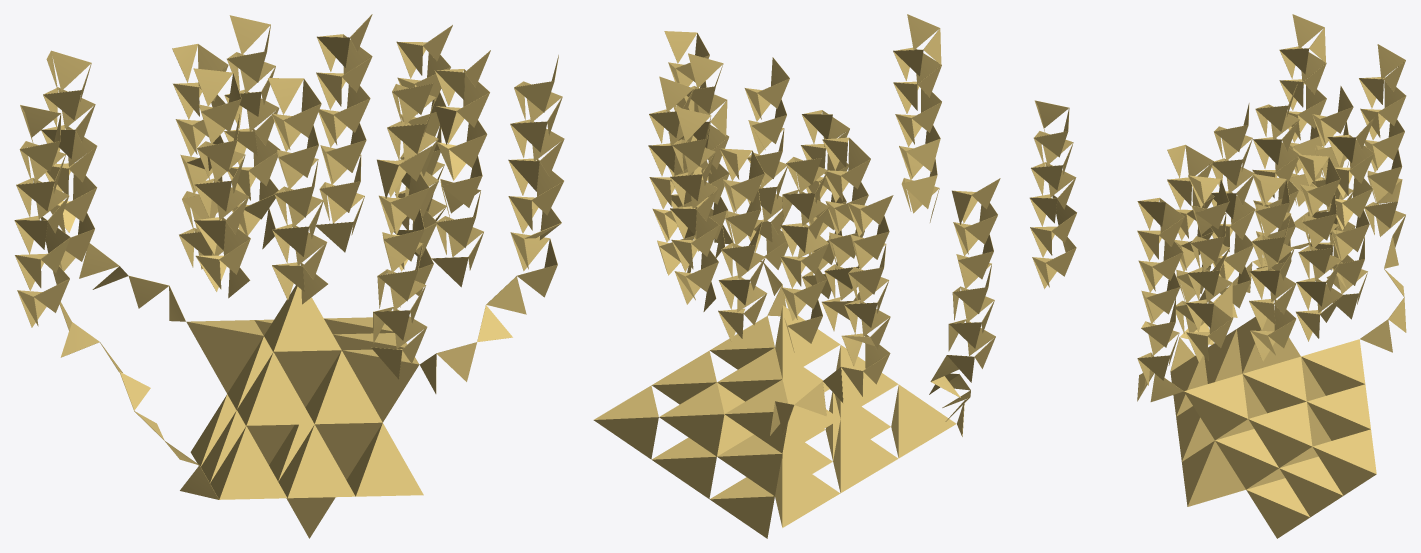
Rendered from AC_FacesIsolated.fbx.
3 views of the same model, side by side, from view 1: azimuth 30°, elevation 25°; view 2: azimuth 150°, elevation 25°; view 3: azimuth 270°, elevation 25° (orthographic). The views are drawn at different scales.
Parts seen in each view (by area): view 1: CON_AC_4CLF_RIG_101419_v2:AC_massing.059, CON_AC_4CLF_RIG_101419_v2:AC_massing.053, CON_AC_4CLF_RIG_101419_v2:AC_massing.006, CON_AC_4CLF_RIG_101419_v2:AC_massing.070, CON_AC_4CLF_RIG_101419_v2:AC_massing.076, CON_AC_4CLF_RIG_101419_v2:AC_massing.040, CON_AC_4CLF_RIG_101419_v2:AC_massing.065, CON_AC_4CLF_RIG_101419_v2:AC_massing.015, CON_AC_4CLF_RIG_101419_v2:AC_massing.029, CON_AC_4CLF_RIG_101419_v2:AC_massing.044, CON_AC_4CLF_RIG_101419_v2:AC_massing.063, CON_AC_4CLF_RIG_101419_v2:AC_massing.032 (+24 smaller); view 2: CON_AC_4CLF_RIG_101419_v2:AC_massing.069, CON_AC_4CLF_RIG_101419_v2:AC_massing.008, CON_AC_4CLF_RIG_101419_v2:AC_massing.022, CON_AC_4CLF_RIG_101419_v2:AC_massing.066, CON_AC_4CLF_RIG_101419_v2:AC_massing.005, CON_AC_4CLF_RIG_101419_v2:AC_massing.039, CON_AC_4CLF_RIG_101419_v2:AC_massing.024, CON_AC_4CLF_RIG_101419_v2:AC_massing.075, CON_AC_4CLF_RIG_101419_v2:AC_massing.018, CON_AC_4CLF_RIG_101419_v2:AC_massing.034, CON_AC_4CLF_RIG_101419_v2:AC_massing.061, CON_AC_4CLF_RIG_101419_v2:AC_massing.050 (+34 smaller); view 3: CON_AC_4CLF_RIG_101419_v2:AC_massing.055, CON_AC_4CLF_RIG_101419_v2:AC_massing.002, CON_AC_4CLF_RIG_101419_v2:AC_massing.012, CON_AC_4CLF_RIG_101419_v2:AC_massing.025, CON_AC_4CLF_RIG_101419_v2:AC_massing.056, CON_AC_4CLF_RIG_101419_v2:AC_massing.030, CON_AC_4CLF_RIG_101419_v2:AC_massing.074, CON_AC_4CLF_RIG_101419_v2:AC_massing.017, CON_AC_4CLF_RIG_101419_v2:AC_massing.072, CON_AC_4CLF_RIG_101419_v2:AC_massing, CON_AC_4CLF_RIG_101419_v2:AC_massing.014, CON_AC_4CLF_RIG_101419_v2:AC_massing.062 (+41 smaller).
Boxes of the visible parts, x1,y1,x2,y2 form: CON_AC_4CLF_RIG_101419_v2:AC_massing.059: [186, 321, 263, 393]; CON_AC_4CLF_RIG_101419_v2:AC_massing.053: [356, 423, 423, 496]; CON_AC_4CLF_RIG_101419_v2:AC_massing.006: [246, 352, 314, 425]; CON_AC_4CLF_RIG_101419_v2:AC_massing.070: [219, 426, 286, 499]; CON_AC_4CLF_RIG_101419_v2:AC_massing.076: [288, 424, 355, 498]; CON_AC_4CLF_RIG_101419_v2:AC_massing.040: [315, 350, 382, 424]; CON_AC_4CLF_RIG_101419_v2:AC_massing.065: [273, 286, 341, 351]; CON_AC_4CLF_RIG_101419_v2:AC_massing.015: [342, 350, 418, 422]; CON_AC_4CLF_RIG_101419_v2:AC_massing.029: [266, 340, 341, 407]; CON_AC_4CLF_RIG_101419_v2:AC_massing.044: [314, 422, 382, 479]; CON_AC_4CLF_RIG_101419_v2:AC_massing.063: [286, 497, 335, 538]; CON_AC_4CLF_RIG_101419_v2:AC_massing.032: [228, 396, 294, 464]; CON_AC_4CLF_RIG_101419_v2:AC_massing.069: [898, 384, 956, 458]; CON_AC_4CLF_RIG_101419_v2:AC_massing.008: [840, 419, 898, 492]; CON_AC_4CLF_RIG_101419_v2:AC_massing.022: [782, 454, 840, 527]; CON_AC_4CLF_RIG_101419_v2:AC_massing.066: [782, 305, 840, 378]; CON_AC_4CLF_RIG_101419_v2:AC_massing.005: [840, 345, 898, 418]; CON_AC_4CLF_RIG_101419_v2:AC_massing.039: [782, 380, 839, 453]; CON_AC_4CLF_RIG_101419_v2:AC_massing.024: [659, 414, 724, 456]; CON_AC_4CLF_RIG_101419_v2:AC_massing.075: [593, 417, 658, 459]; CON_AC_4CLF_RIG_101419_v2:AC_massing.018: [652, 456, 716, 498]; CON_AC_4CLF_RIG_101419_v2:AC_massing.034: [717, 454, 782, 495]; CON_AC_4CLF_RIG_101419_v2:AC_massing.061: [710, 496, 774, 538]; CON_AC_4CLF_RIG_101419_v2:AC_massing.050: [717, 382, 753, 456]; CON_AC_4CLF_RIG_101419_v2:AC_massing.055: [1187, 441, 1245, 506]; CON_AC_4CLF_RIG_101419_v2:AC_massing.002: [1249, 401, 1312, 446]; CON_AC_4CLF_RIG_101419_v2:AC_massing.012: [1184, 374, 1247, 418]; CON_AC_4CLF_RIG_101419_v2:AC_massing.025: [1307, 384, 1370, 428]; CON_AC_4CLF_RIG_101419_v2:AC_massing.056: [1301, 339, 1365, 383]; CON_AC_4CLF_RIG_101419_v2:AC_massing.030: [1243, 356, 1306, 401]; CON_AC_4CLF_RIG_101419_v2:AC_massing.074: [1313, 429, 1376, 473]; CON_AC_4CLF_RIG_101419_v2:AC_massing.017: [1279, 468, 1342, 517]; CON_AC_4CLF_RIG_101419_v2:AC_massing.072: [1313, 447, 1376, 495]; CON_AC_4CLF_RIG_101419_v2:AC_massing: [1248, 419, 1311, 467]; CON_AC_4CLF_RIG_101419_v2:AC_massing.014: [1184, 391, 1247, 440]; CON_AC_4CLF_RIG_101419_v2:AC_massing.062: [1246, 490, 1309, 538].
Size of the model in its own units: 1247 by 1297 by 1045.
